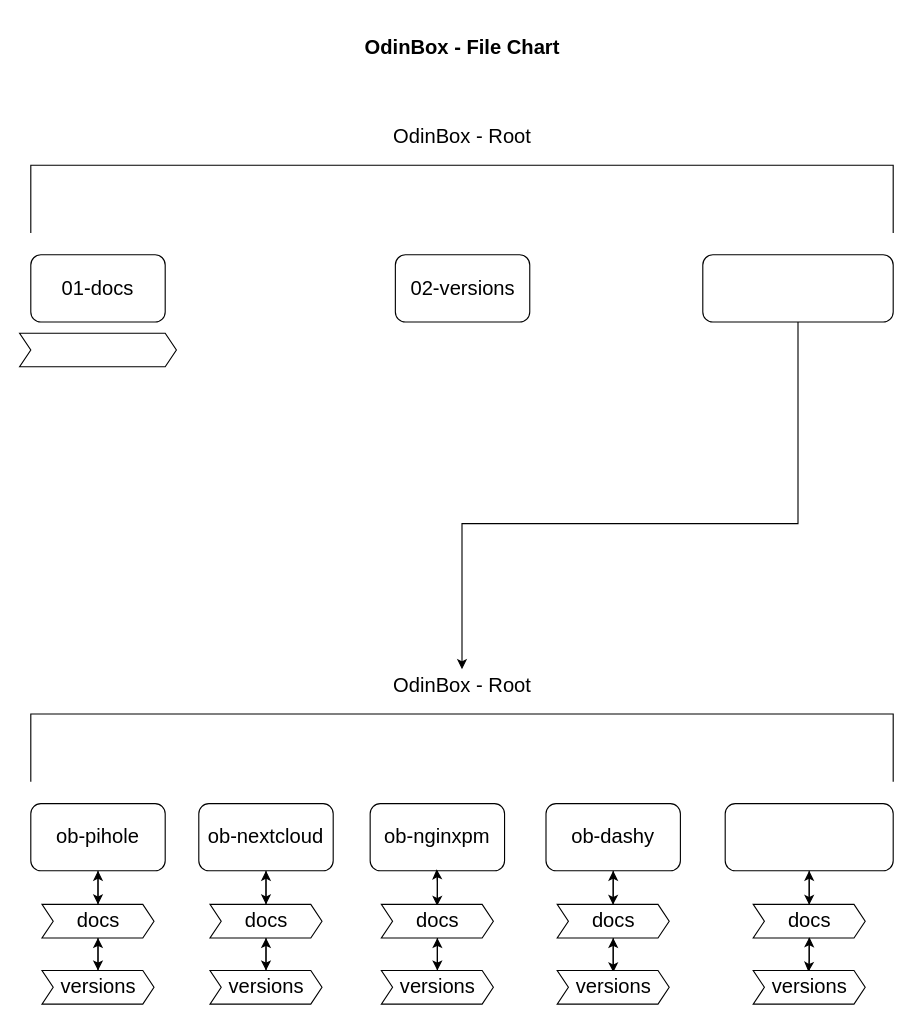
Some shapes in this 913 by 1024 pixel diagram are drawn without their labels. Each missing label, with the centre of its shape:
"03-sub-projects" belongs at (797,288).
"drawio-charts" belongs at (97,349).
"ob-securityonion" belongs at (808,836).
